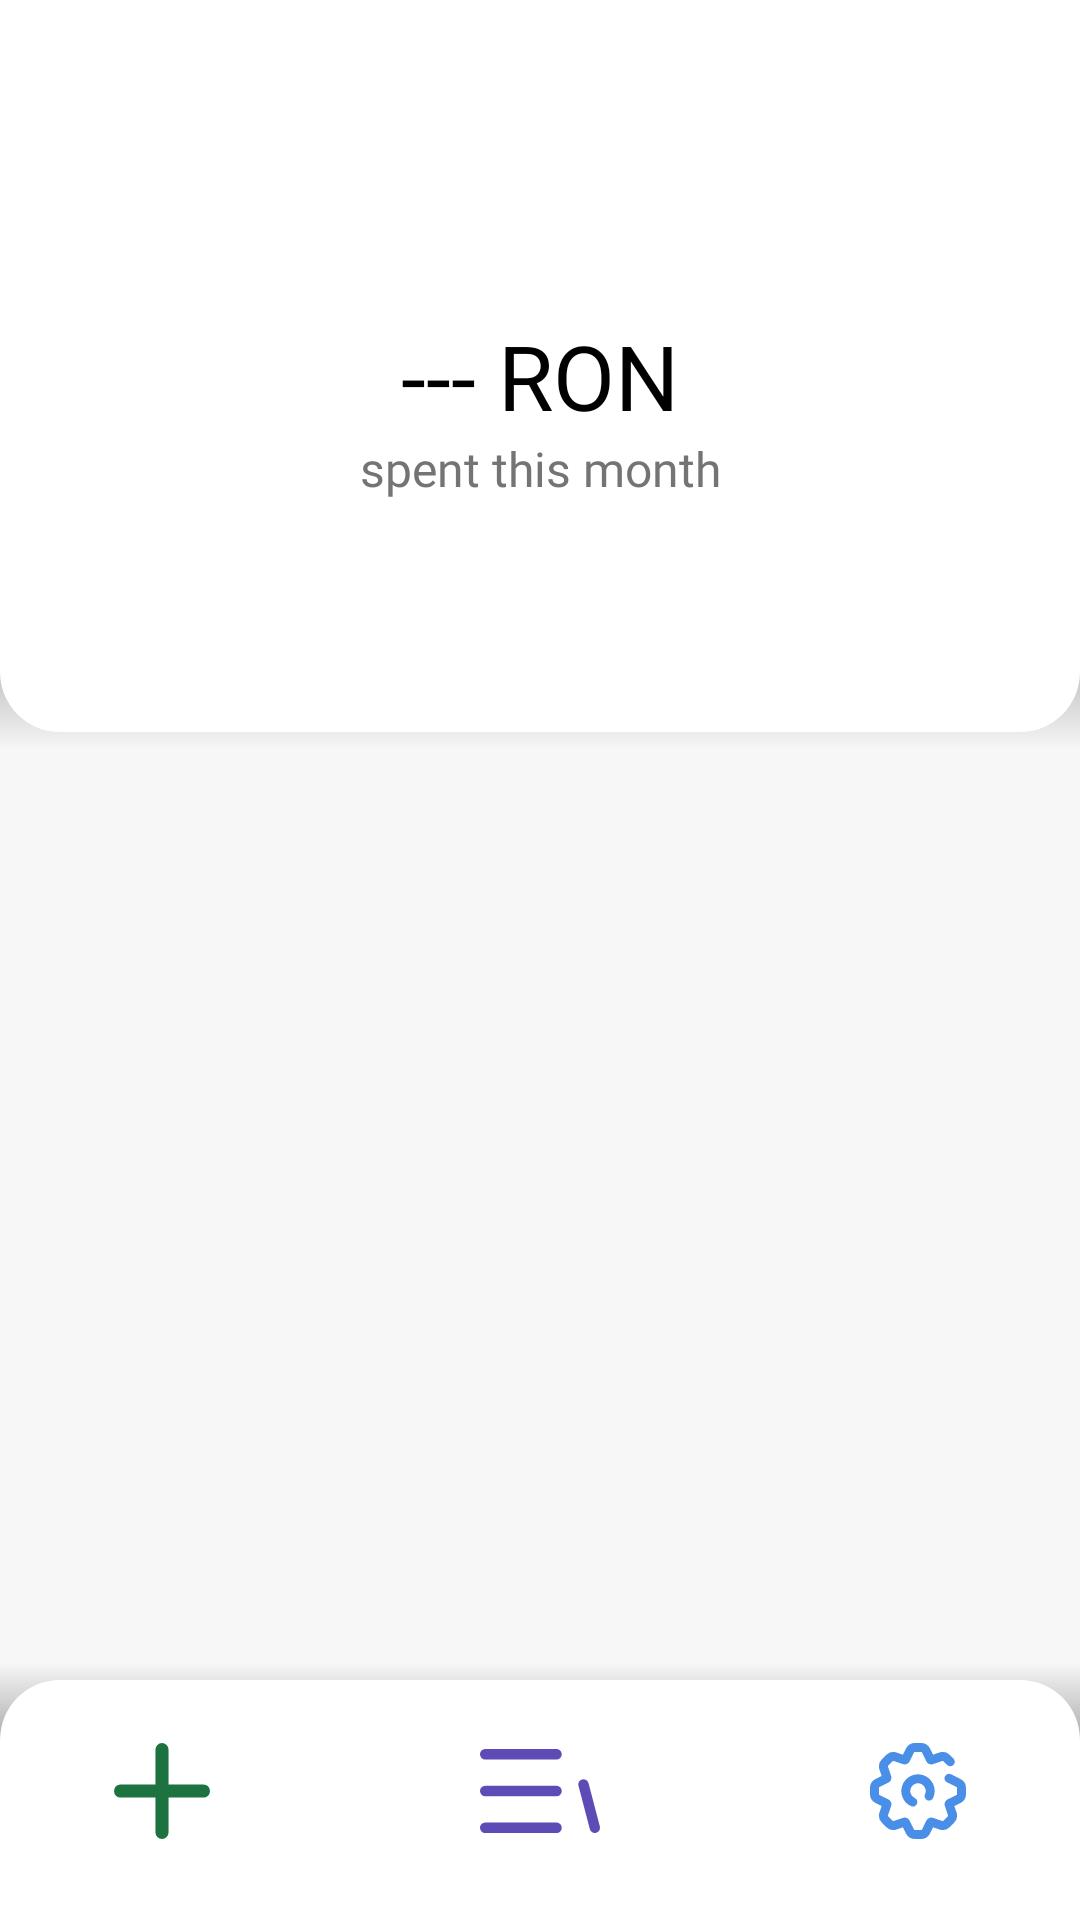

Named icons in this screenshot (1080x1920) and their bounding boxes, (x1, y1, x2, y2):
list: (480, 1749, 600, 1833)
plus: (114, 1743, 210, 1839)
settings: (870, 1743, 966, 1839)
